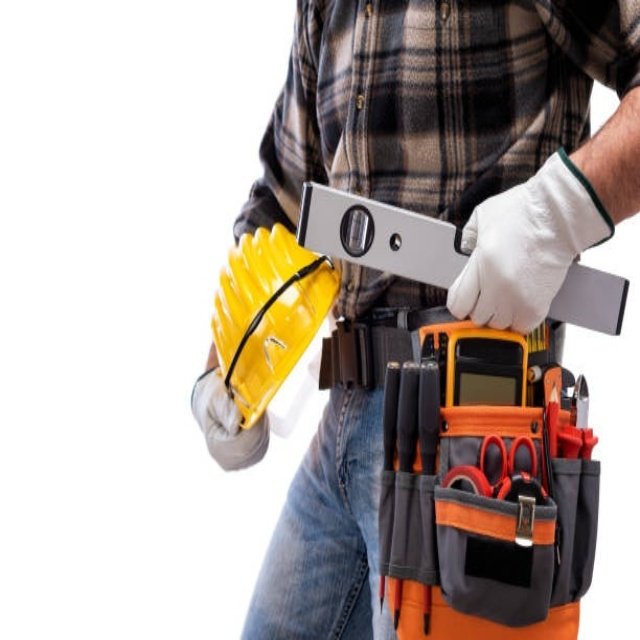Guantes: (446, 143, 614, 335), (190, 365, 269, 472)
